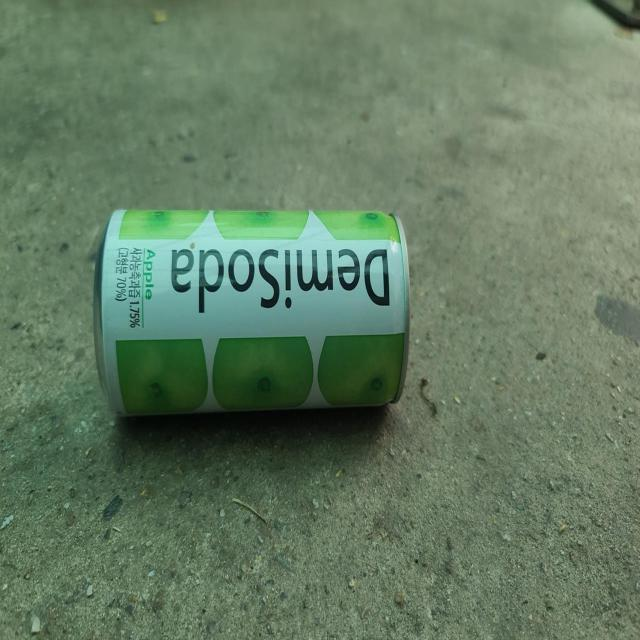can: (93, 209, 410, 414)
